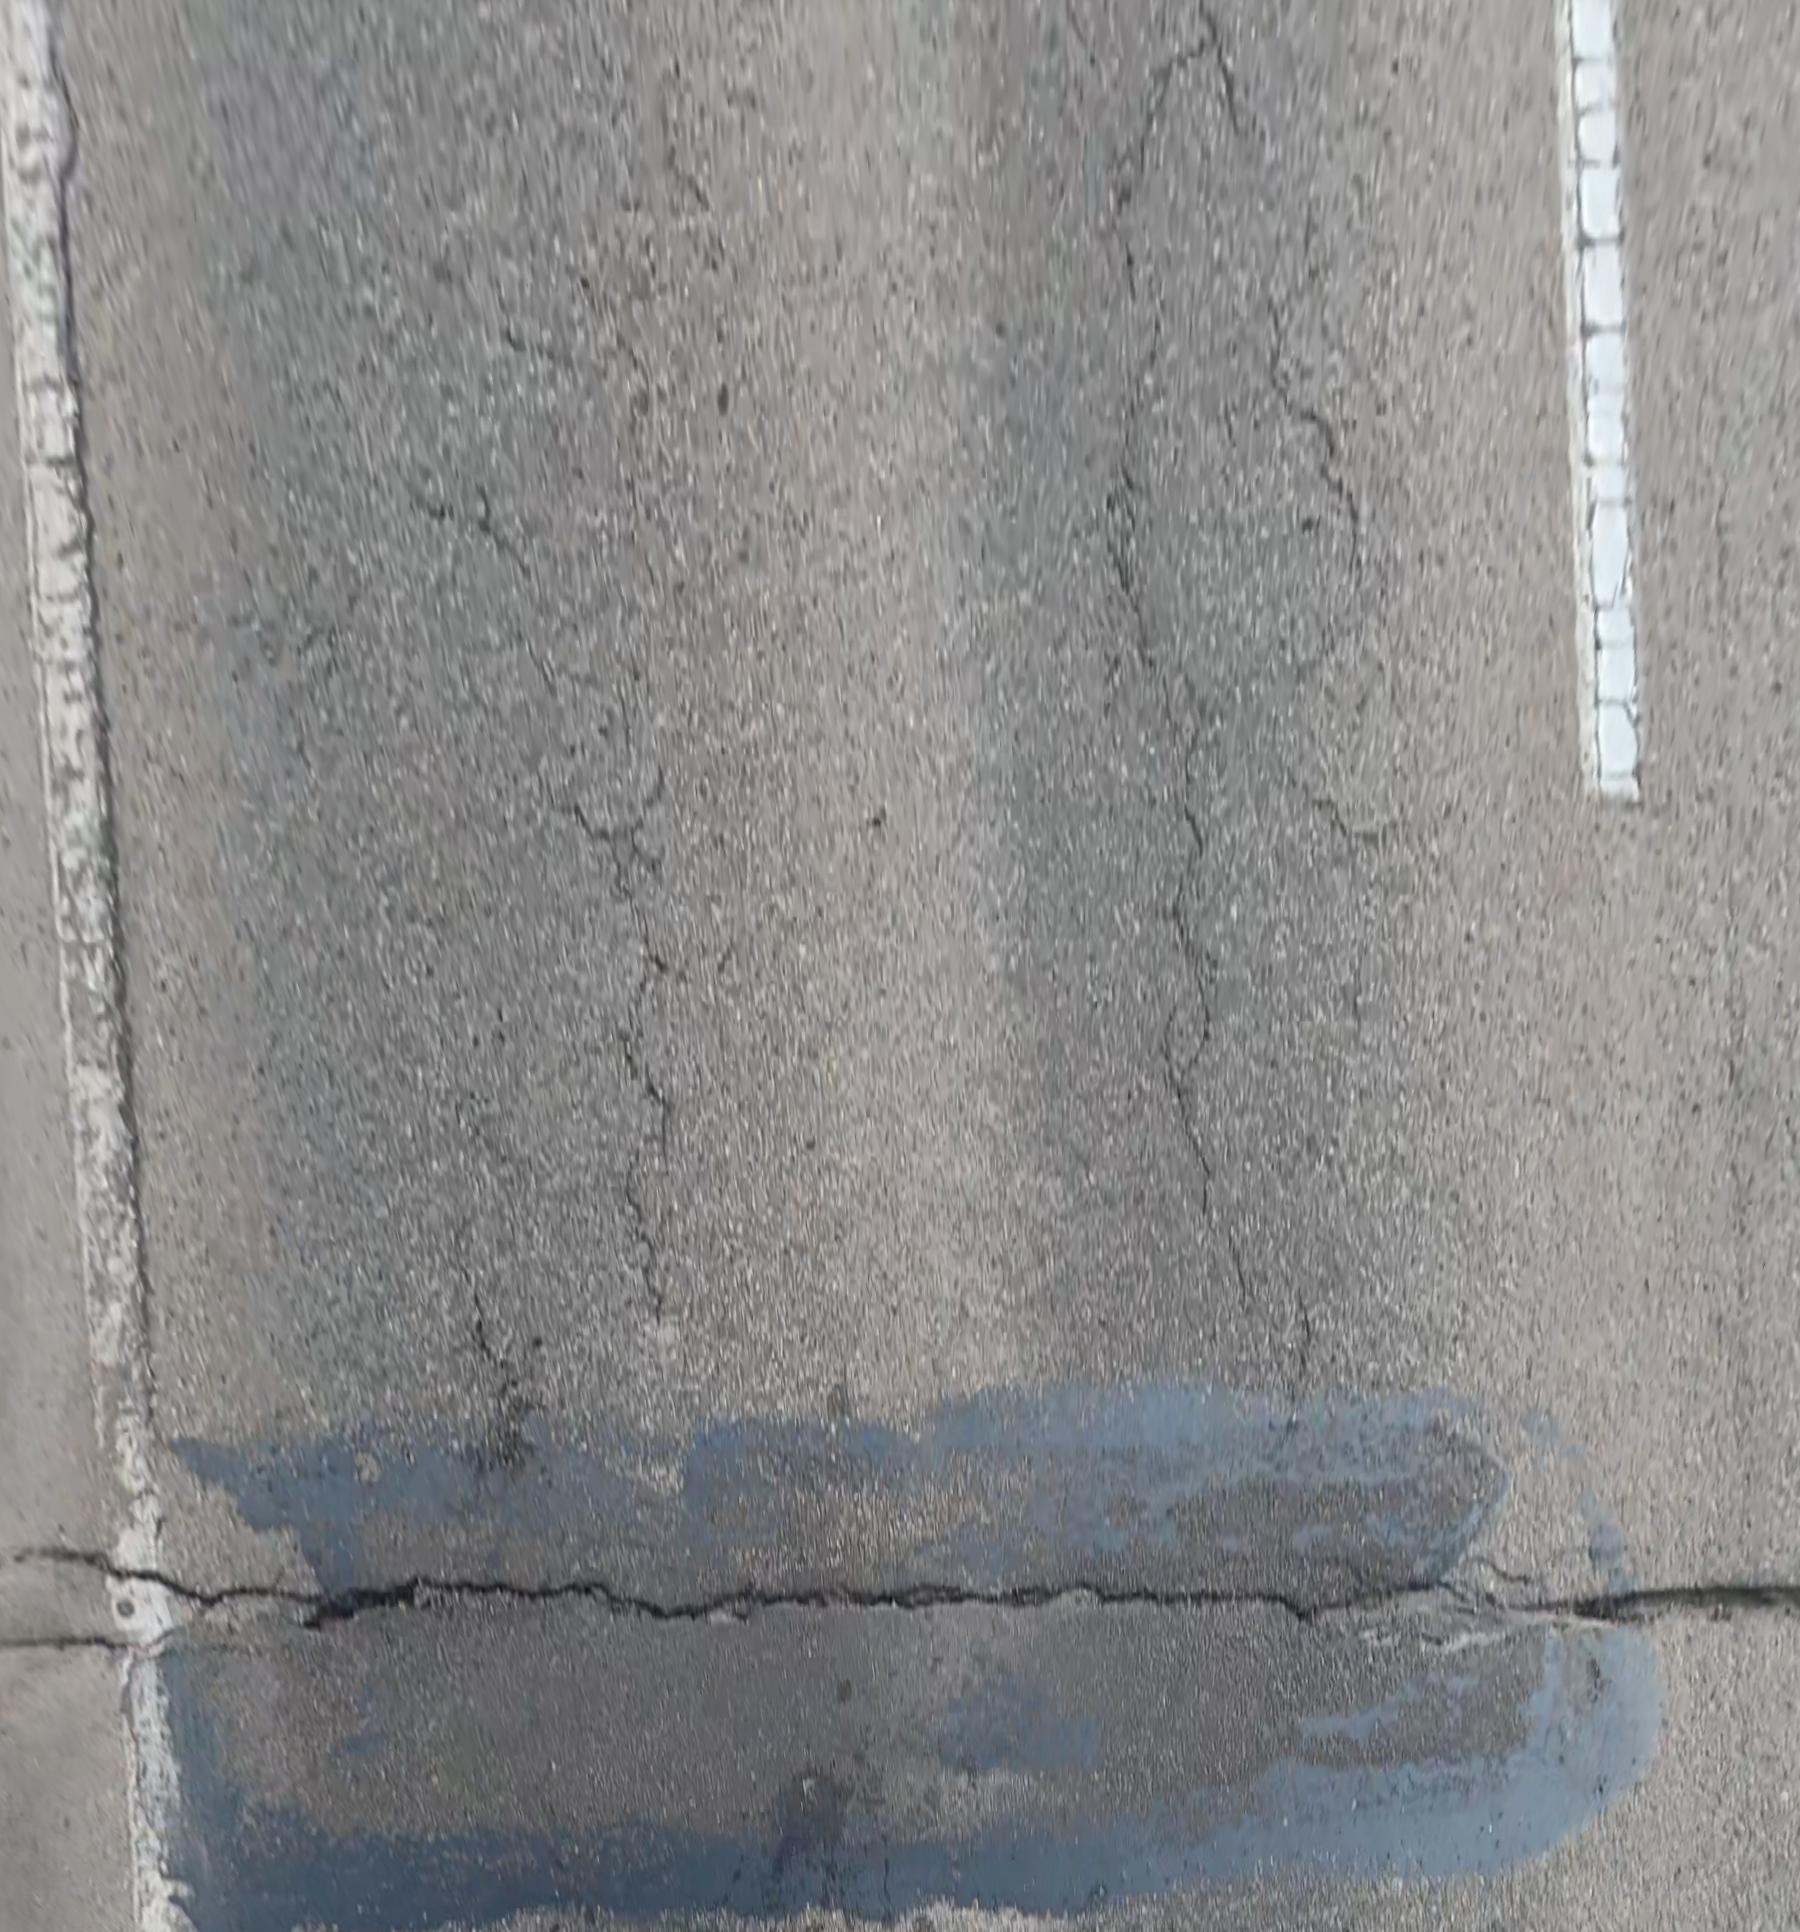pothole_patch_poor: (162, 1387, 1665, 1932)
